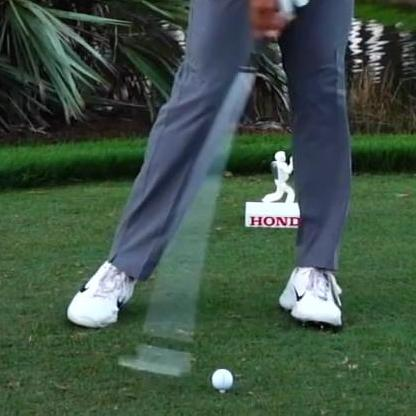golfball: (208, 366, 234, 390)
